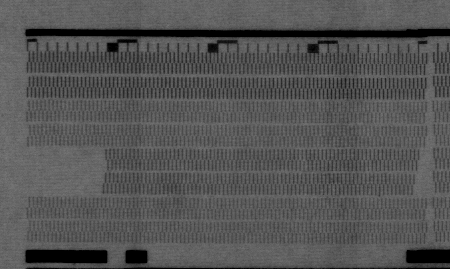Broken hole: (26, 145, 107, 196), (415, 150, 430, 198)
